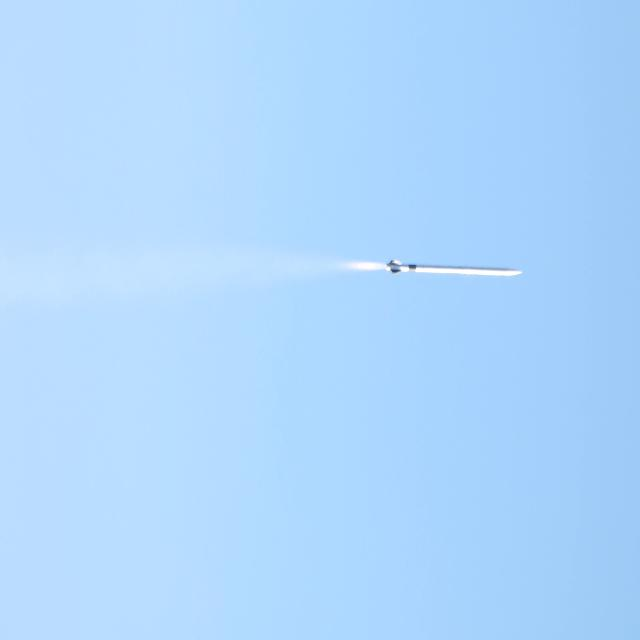Rocket: (386, 258, 523, 277)
